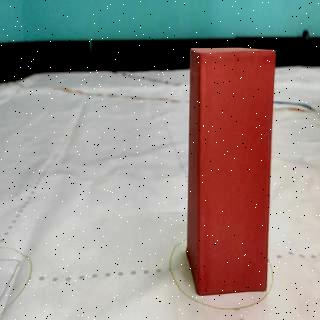redbox: (186, 46, 276, 296)
